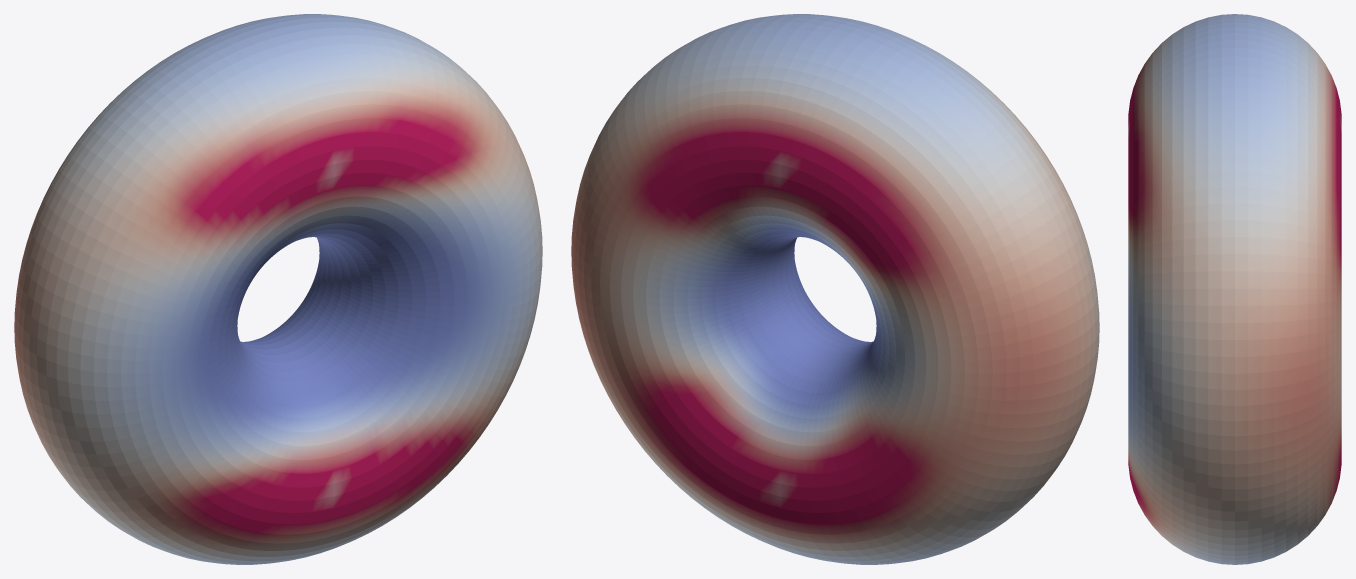
3 views of the same model, side by side, from view 1: azimuth 30°, elevation 25°; view 2: azimuth 150°, elevation 25°; view 3: azimuth 270°, elevation 25° (orthographic). The views are drawn at different scales.
Parts seen in each view (by area): view 1: world; view 2: world; view 3: world.
Boxes of the visible parts, x1,y1,x2,y2 form: world: [14, 14, 542, 564]; world: [571, 14, 1099, 564]; world: [1128, 14, 1341, 564].
Bounding box in the file's own units: 19.6 × 19.6 × 7.59.
